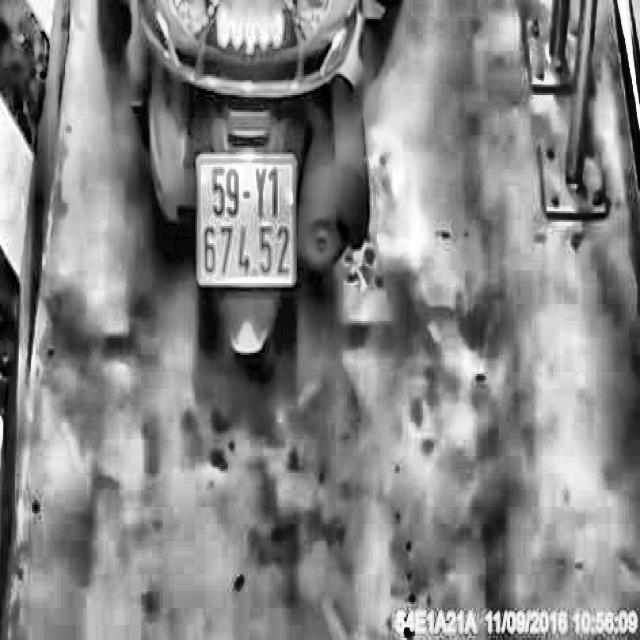plate: (190, 146, 300, 296)
